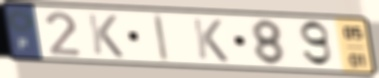2: (43, 10, 84, 58)
8: (249, 17, 288, 67)
9: (297, 20, 336, 70)
I: (151, 13, 171, 63)
K: (85, 11, 127, 60), (190, 16, 232, 64)
